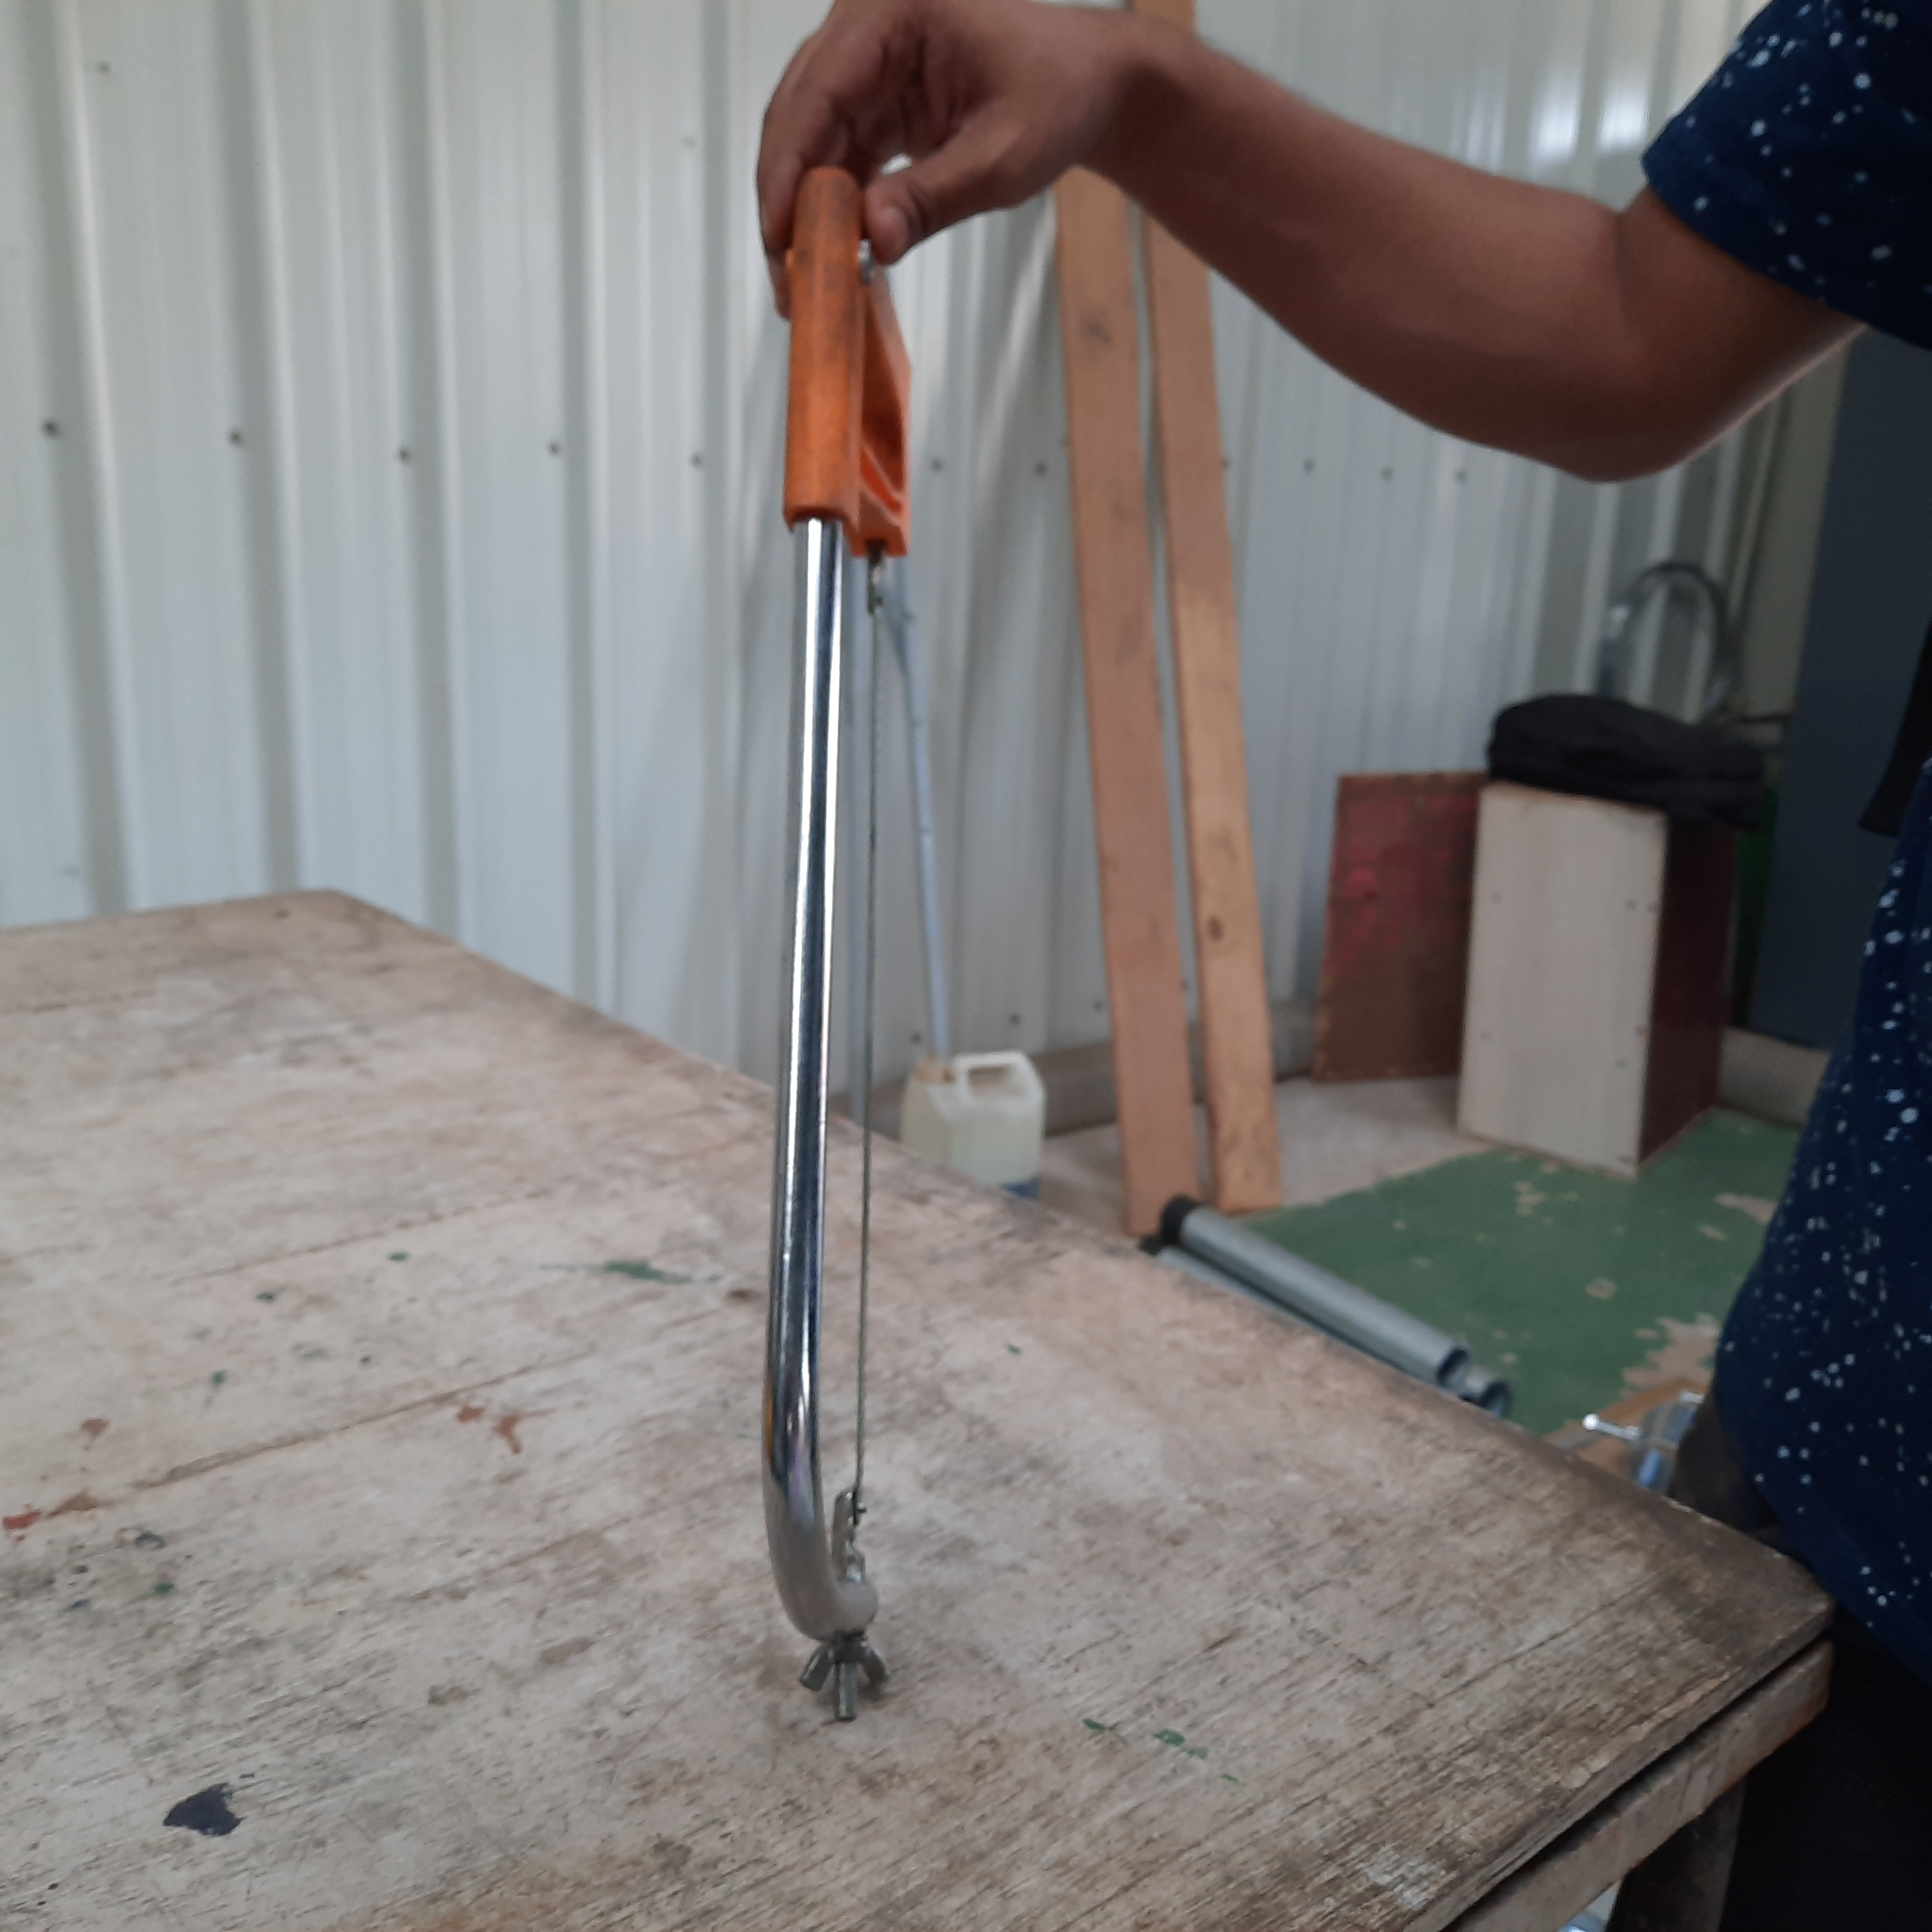Hexaframe: (694, 150, 1065, 1748)
